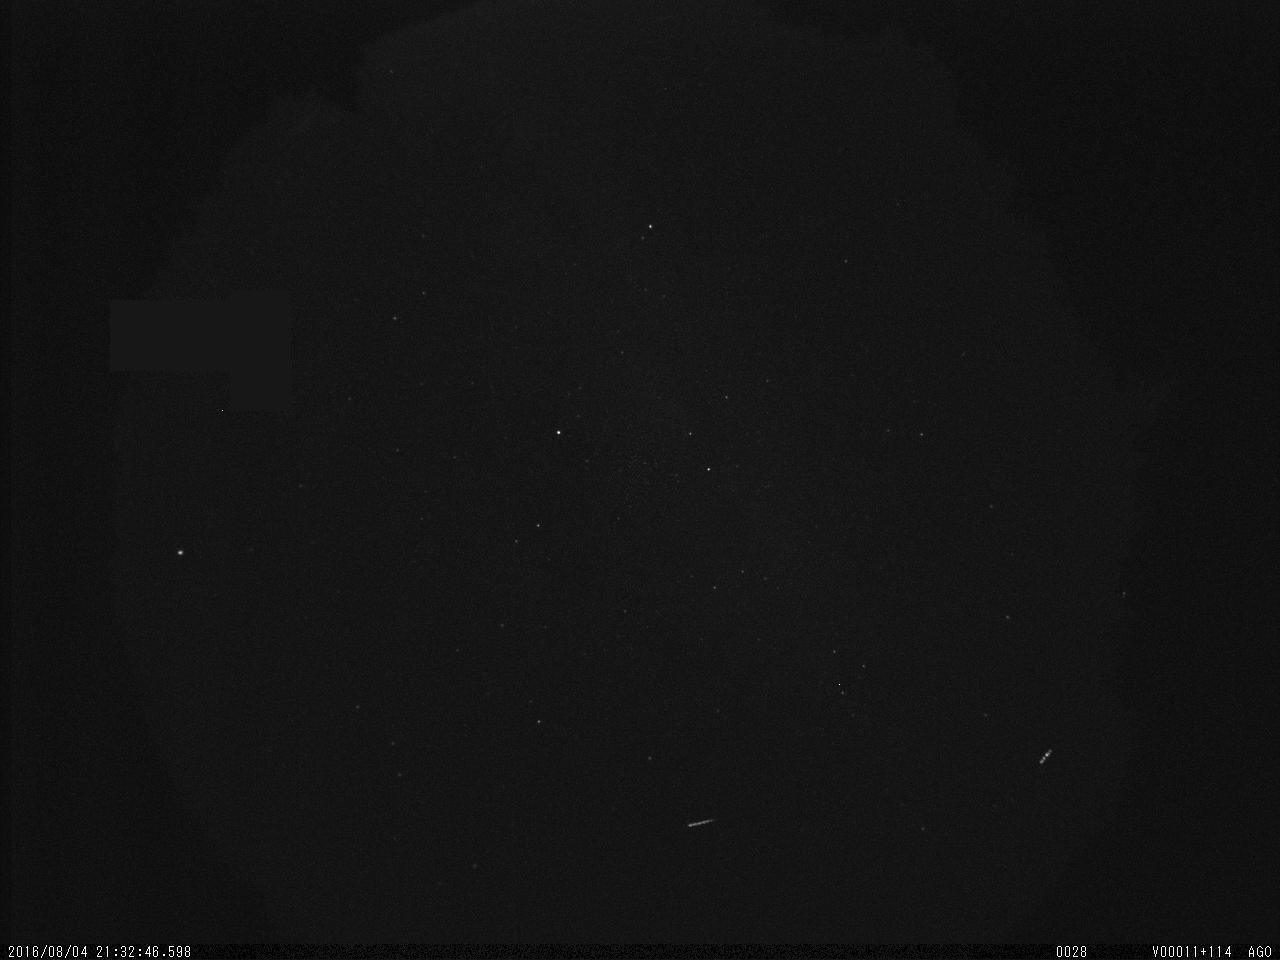meteor: (677, 809, 722, 840)
satelite: (1034, 742, 1058, 770)
